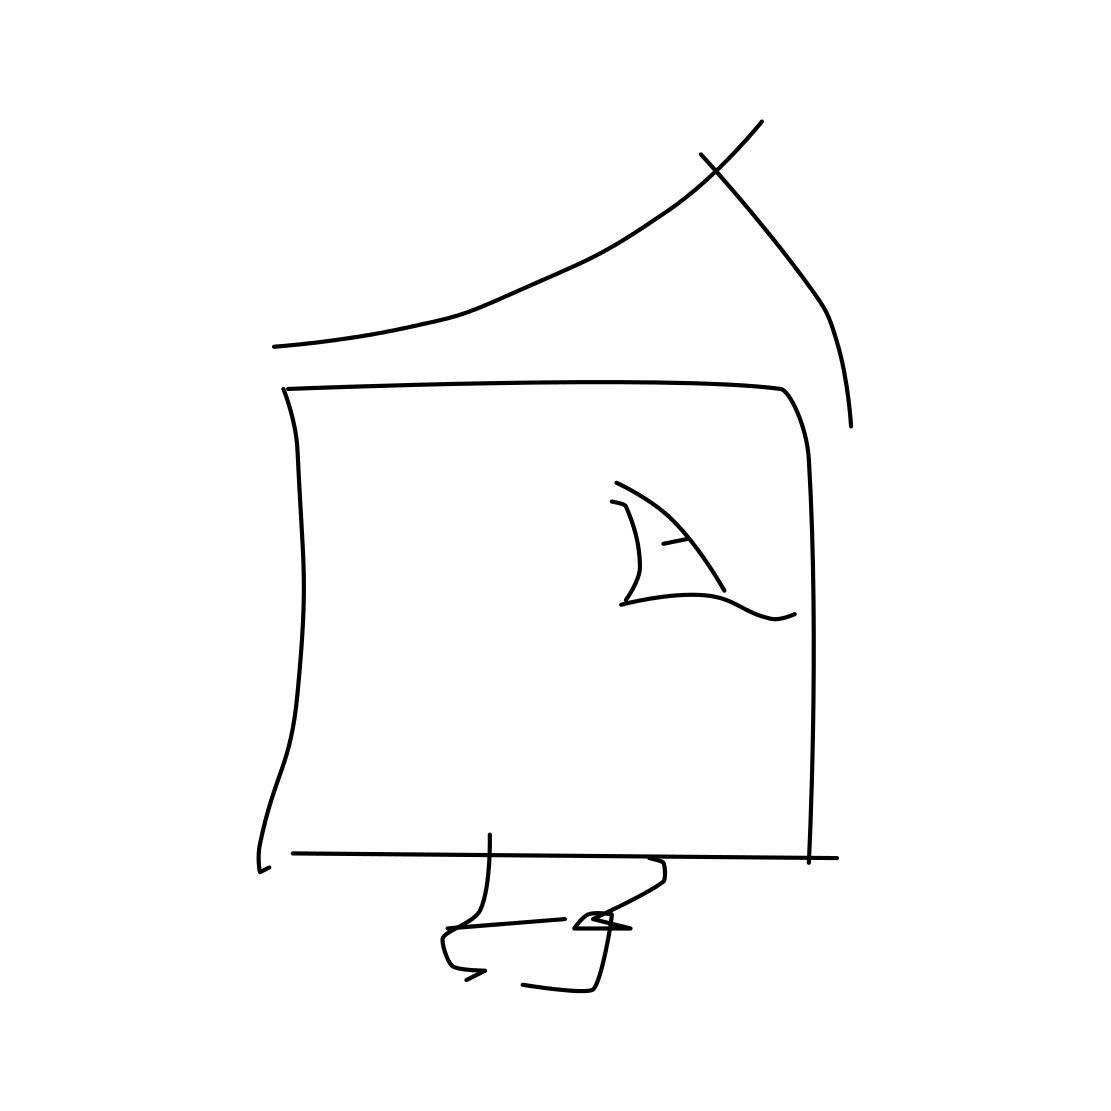door: (436, 820, 675, 1000)
house: (190, 94, 887, 905)
roof: (215, 94, 877, 435)
wall: (255, 395, 823, 877)
window: (598, 463, 802, 643)
